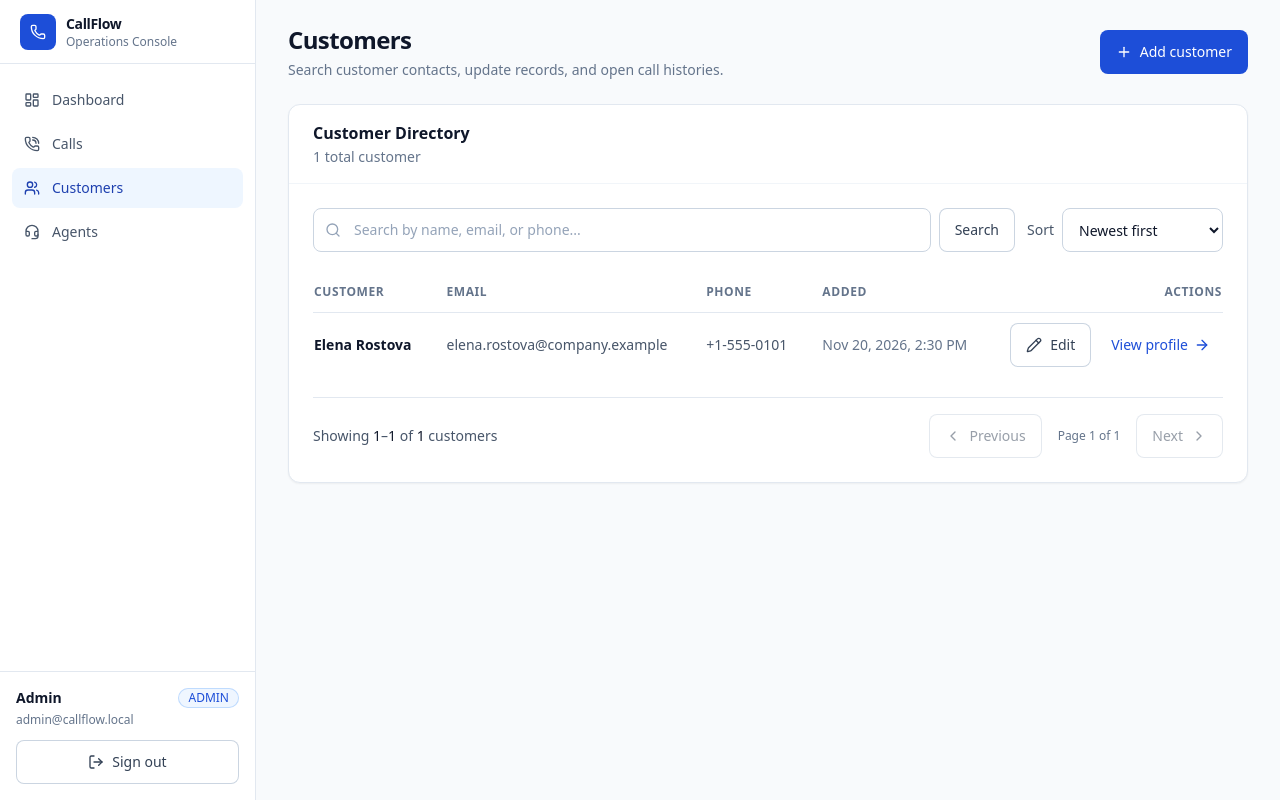
CustomersPage › shows conflict error in modal and updates an existing customer
Expected: the link "Elena Rostova" is shown, left=314, top=335, right=411, bottom=354
Click the button with aria-label "Edit Elena Rostova" at [1051, 345], box left=1010, top=323, right=1091, bottom=367
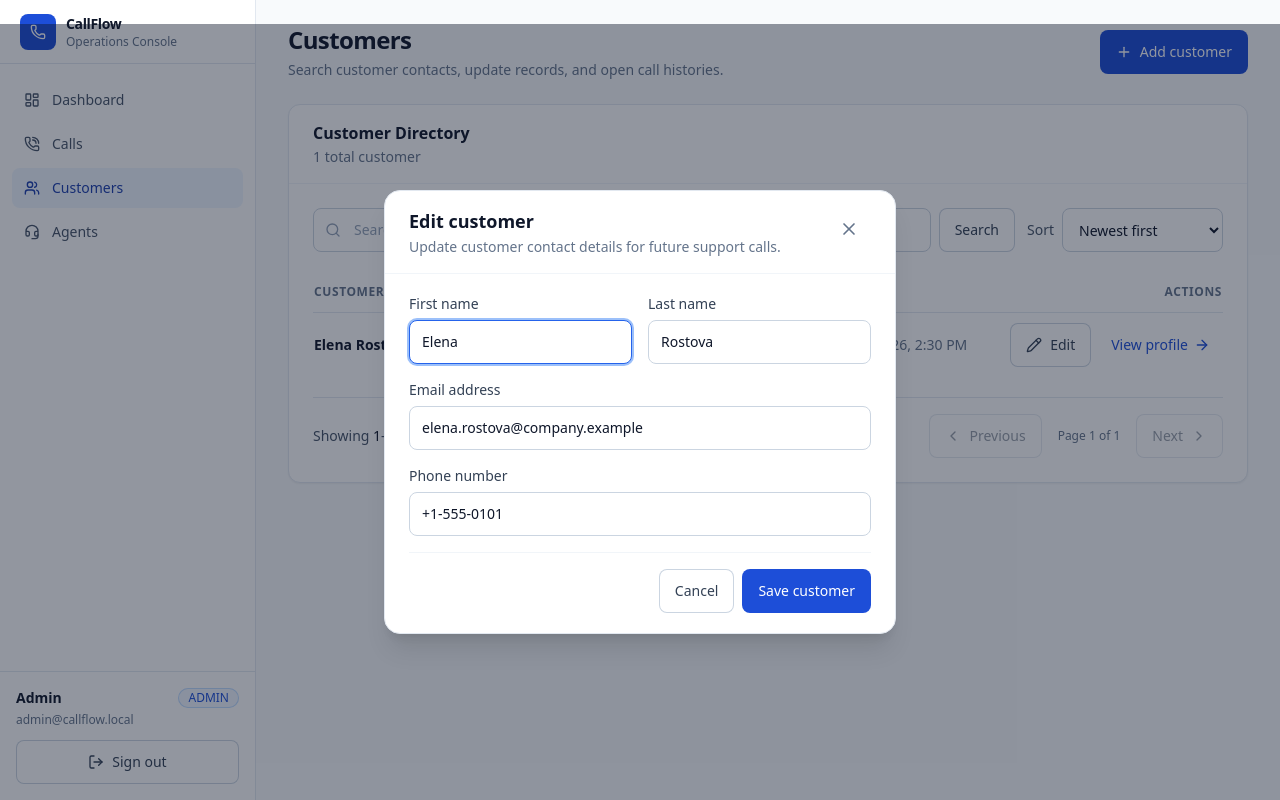
Type "taken@company.example" into the field labelled "Email address" at [640, 428], box left=409, top=406, right=871, bottom=450
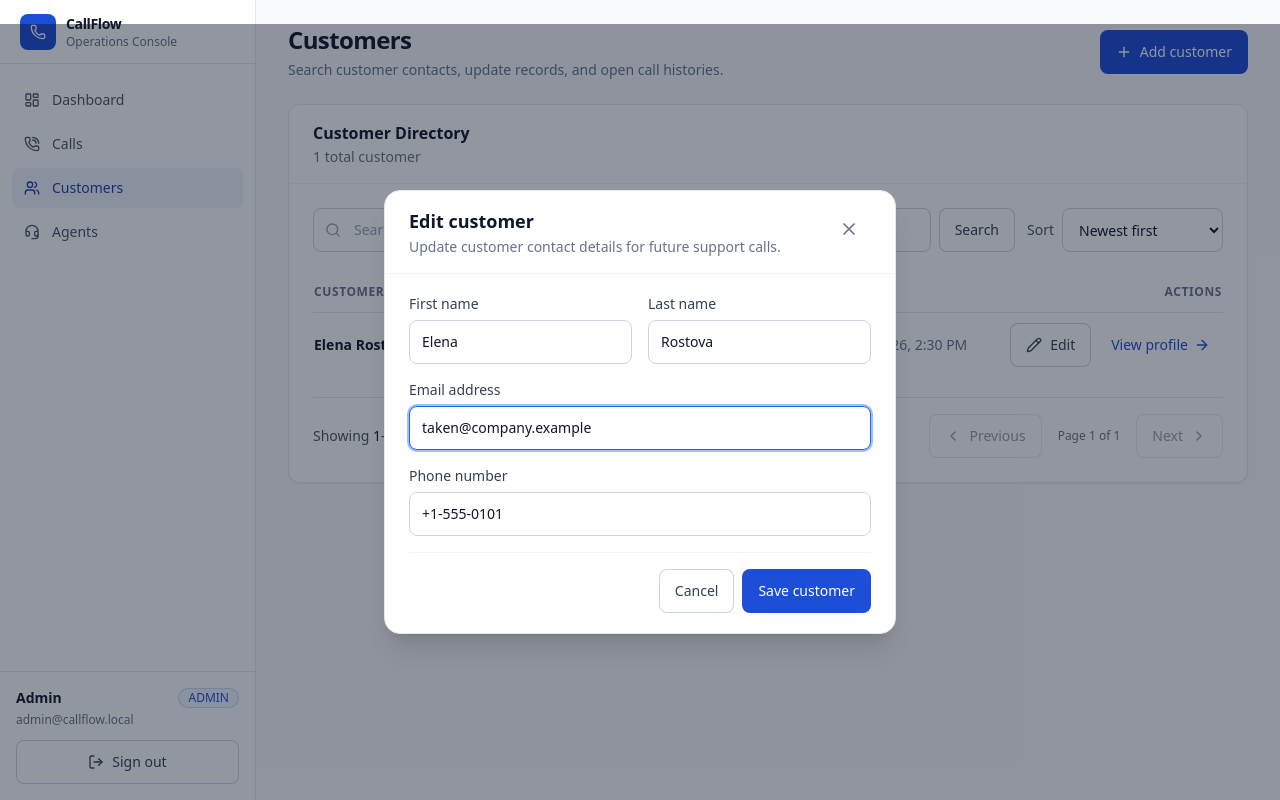
Click the button "Save customer" at [807, 591], box left=742, top=569, right=871, bottom=613
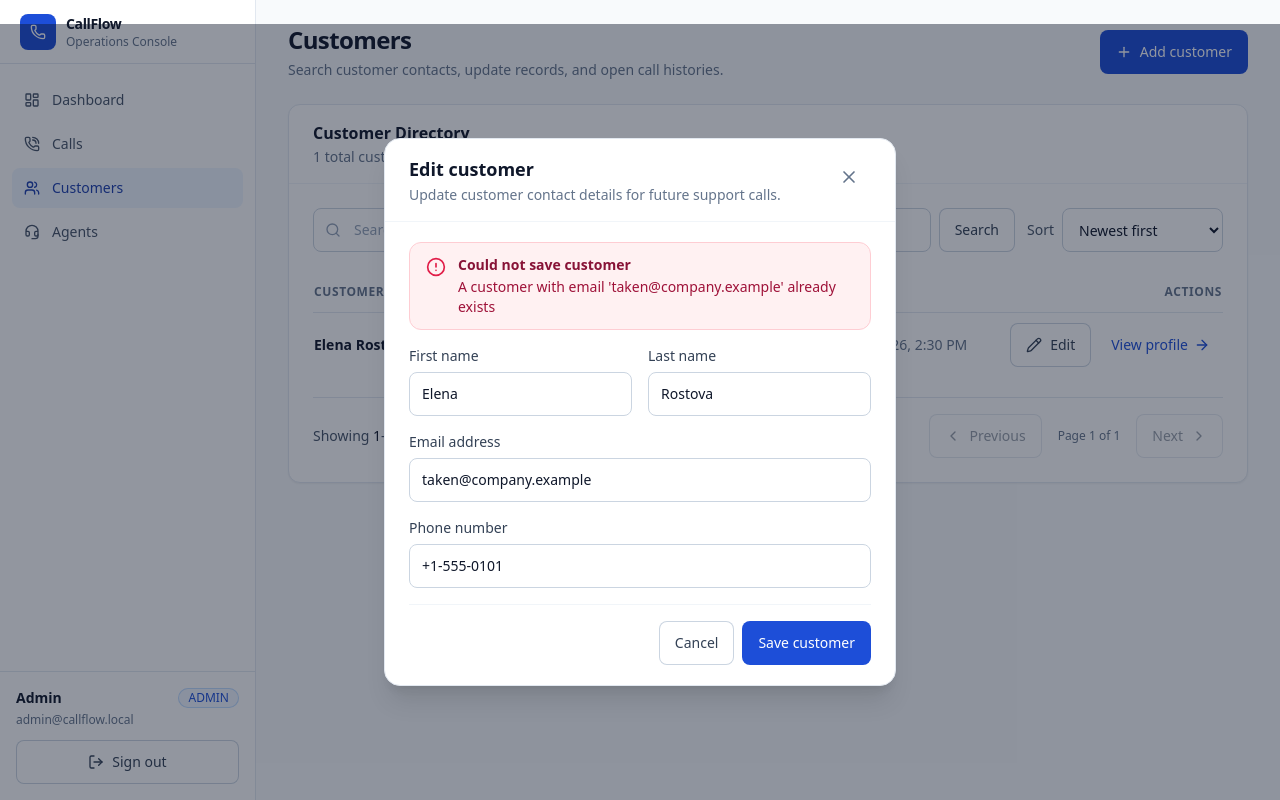
Now the message shows "A customer with email 'taken@company.example' already exists", box left=458, top=277, right=836, bottom=316
Replace the text in the field labelled "Email address" with "elena.updated@company.example" at [640, 480], box left=409, top=458, right=871, bottom=502
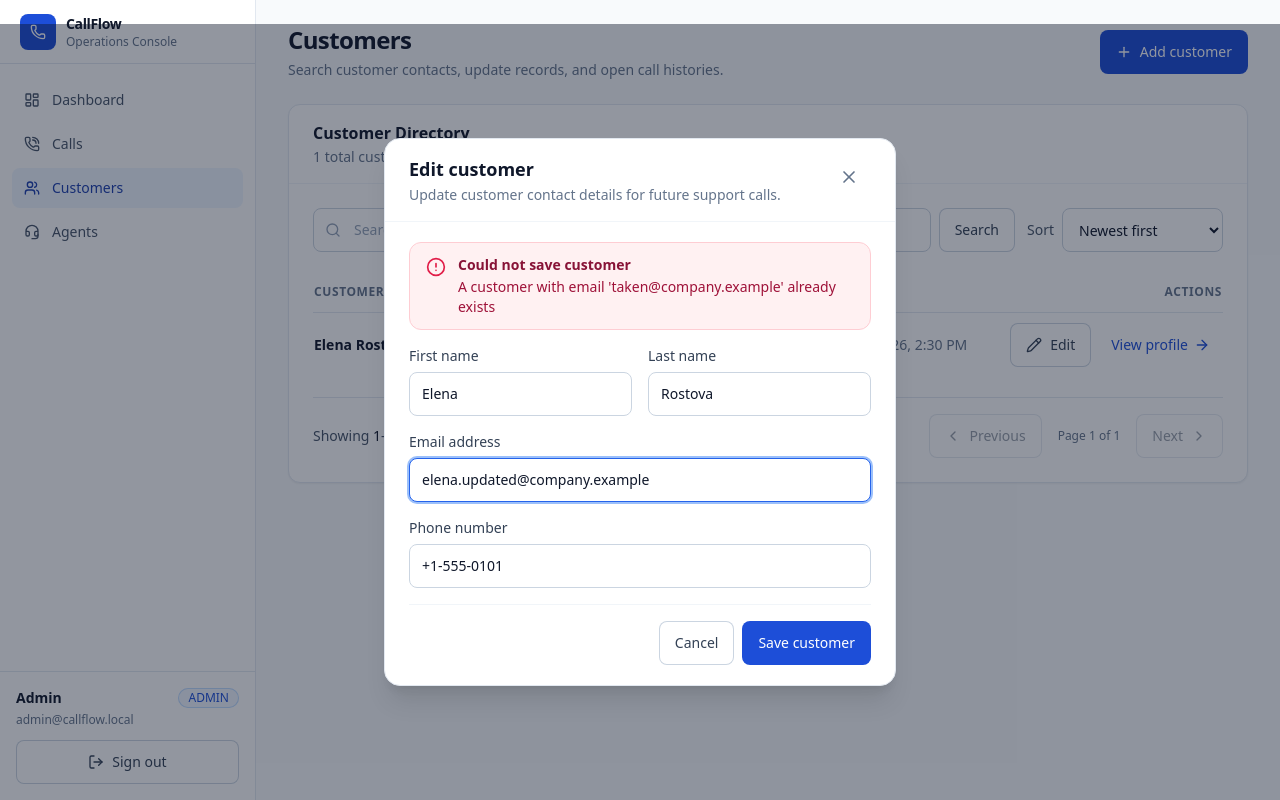
Click the button "Save customer" at [807, 643], box left=742, top=621, right=871, bottom=665
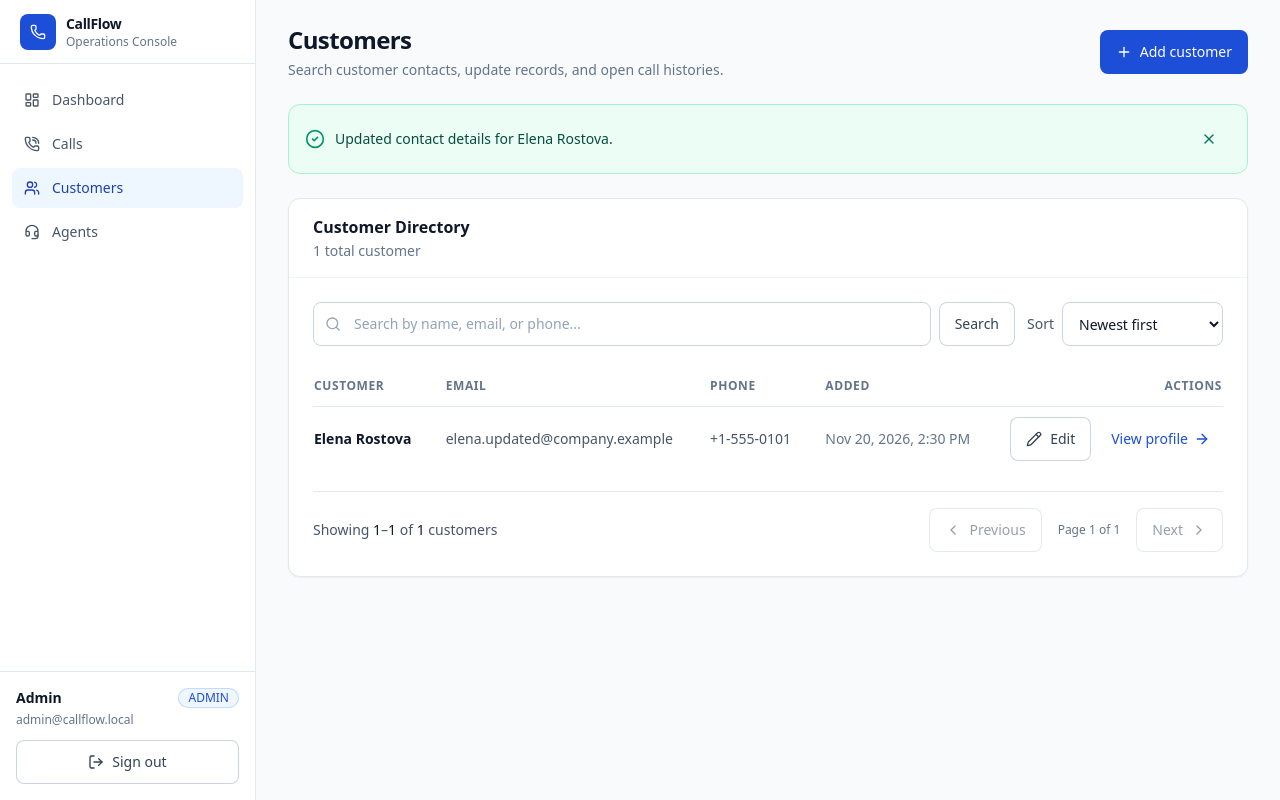
Now the message reads "Updated contact details for Elena Rostova.", box left=335, top=129, right=613, bottom=148
Now the text "elena.updated@company.example" is shown, box left=430, top=406, right=694, bottom=471
